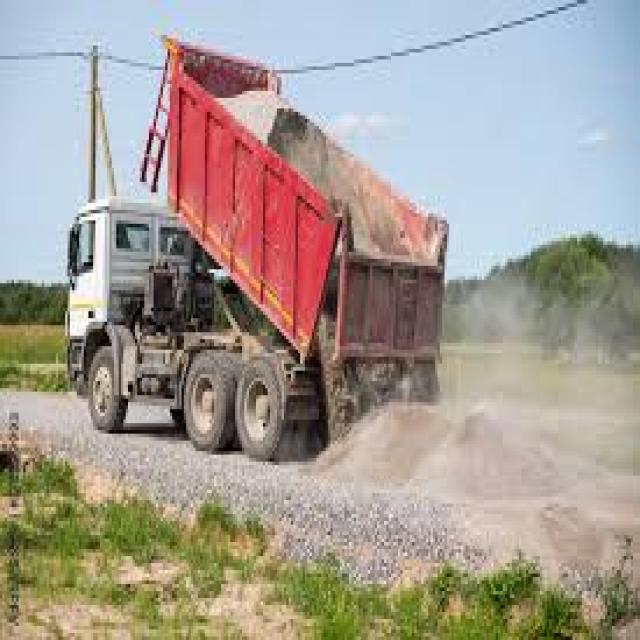dump_truck: (48, 26, 450, 460)
